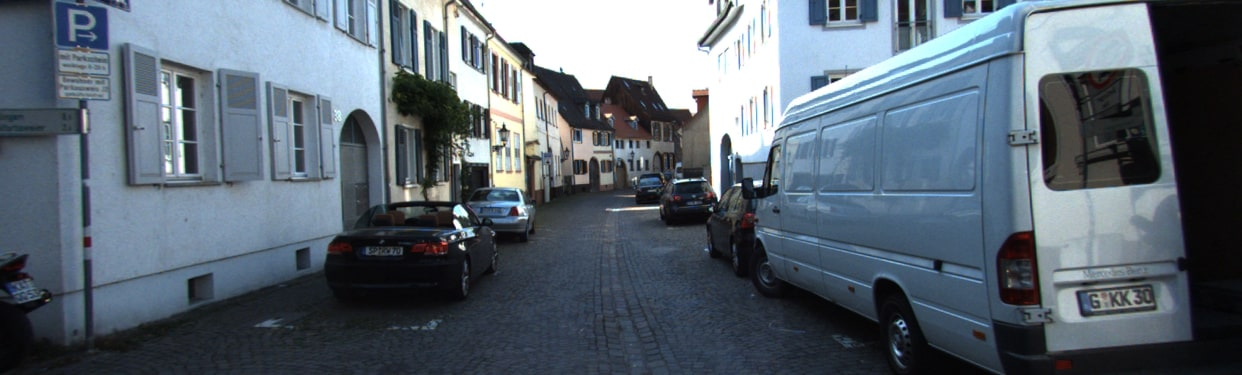car: (750, 1, 1216, 375), (320, 199, 489, 311), (474, 179, 546, 241), (706, 183, 751, 278), (659, 179, 716, 218), (634, 179, 671, 206)
